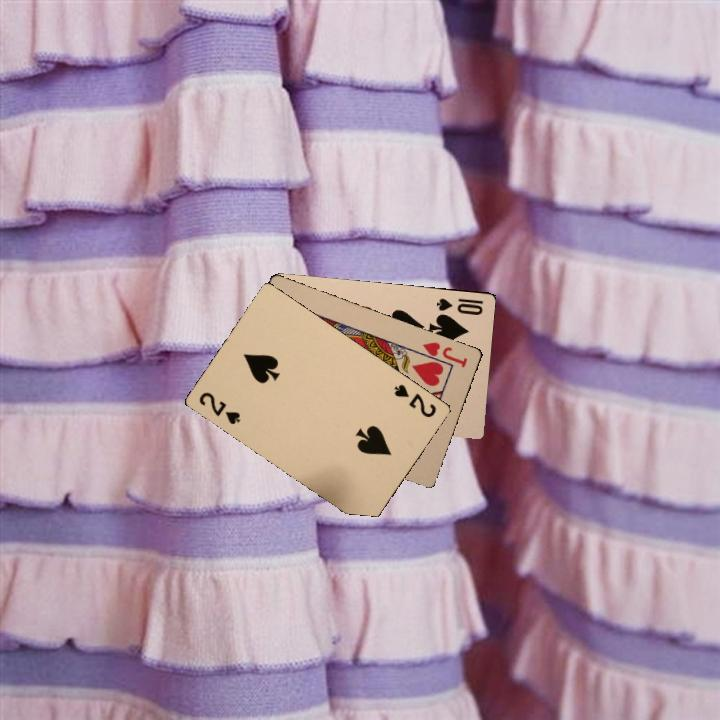10s: (432, 294, 485, 317)
2s: (390, 380, 439, 420), (195, 388, 243, 427)
Jh: (415, 338, 470, 370)
